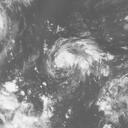cyclone: (44, 36, 112, 84)
